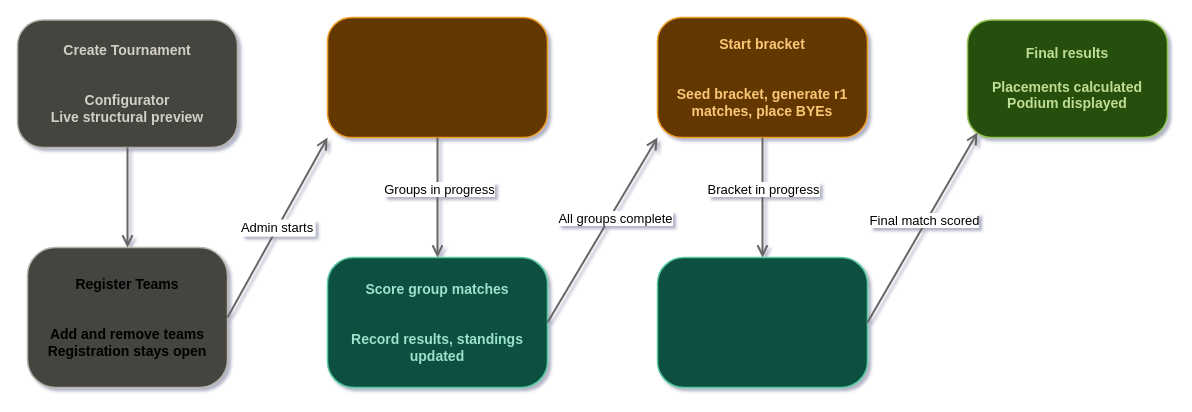
Some shapes in this 1192 by 412 pixel diagram are drawn without their labels. The box of each missing label's shape, as (x1, y1, x2, y2) in pixels:
Score bracket matches Record results, teams eliminated, next match gets games: (656, 256, 868, 388)
Start groups Close registration Seed groups, generate all matches: (326, 16, 548, 138)
